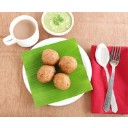bonda: (41, 48, 60, 65), (53, 72, 70, 90)
